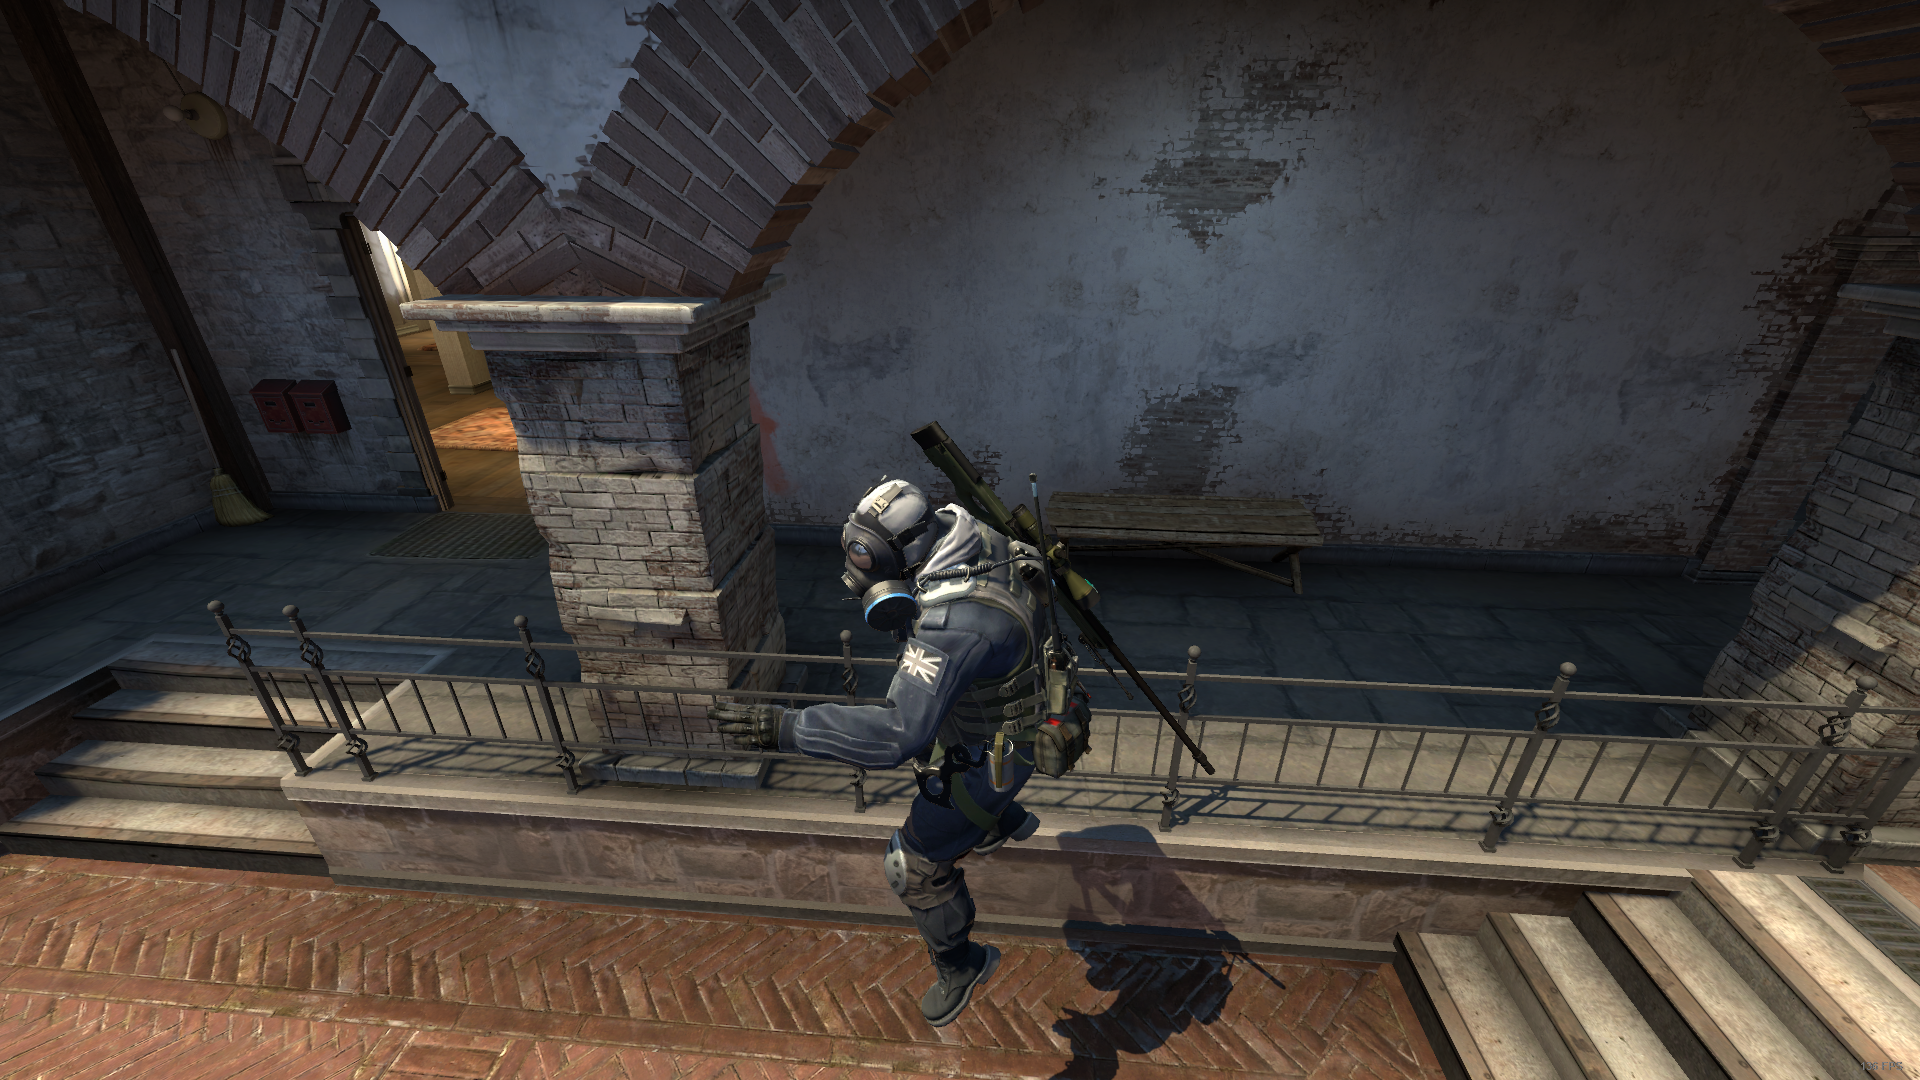ct: (705, 473, 1095, 1015)
